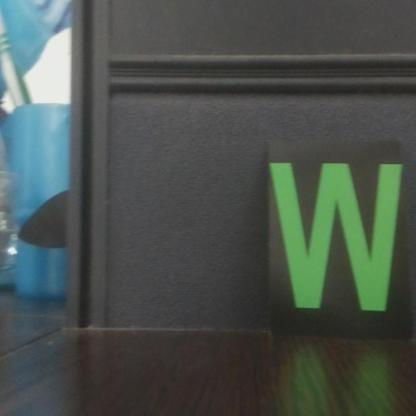w: (267, 138, 409, 344)
